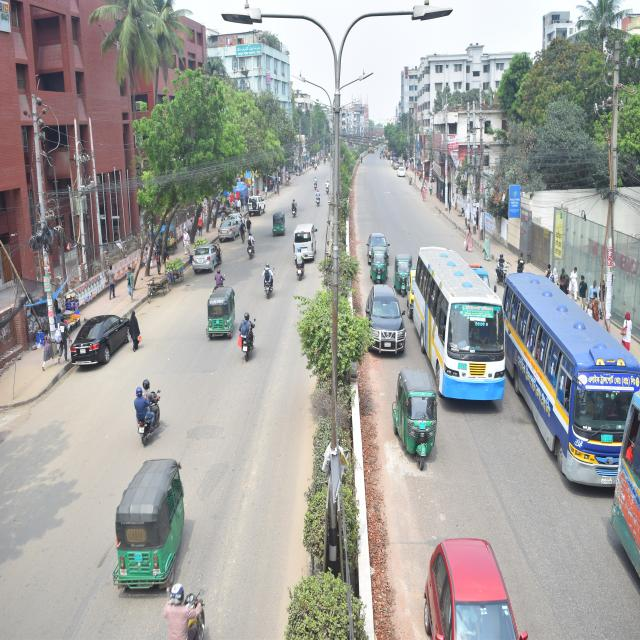bus: (499, 267, 640, 488), (414, 247, 508, 406)
car: (424, 531, 528, 640), (68, 309, 138, 370), (365, 280, 407, 356), (190, 241, 224, 275), (364, 227, 391, 265), (215, 220, 245, 243), (245, 192, 268, 219)
motorbike: (173, 584, 216, 640), (134, 381, 165, 446), (239, 312, 260, 362), (291, 247, 310, 280), (263, 260, 278, 301), (495, 255, 508, 290), (244, 232, 259, 260), (314, 188, 324, 209), (290, 198, 299, 216)
